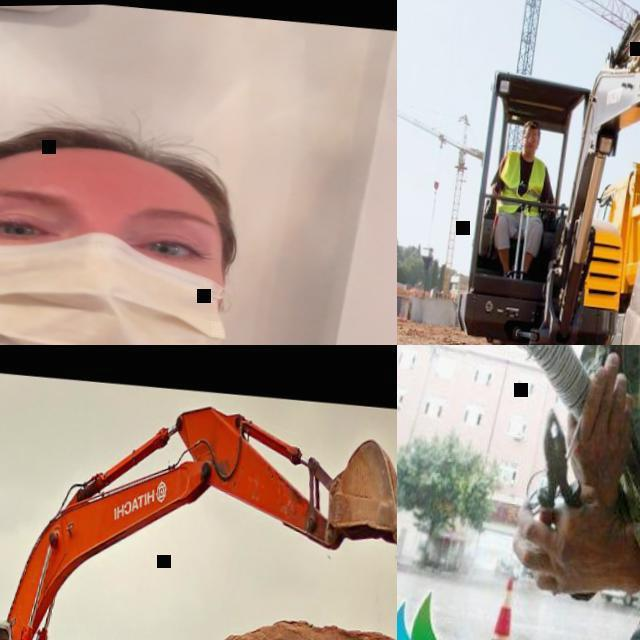machinery: (0, 365, 397, 640), (397, 0, 640, 345), (570, 57, 640, 345)
mask: (0, 227, 235, 345)
no_helmet: (0, 112, 241, 216), (525, 118, 541, 130)
no_mask: (522, 142, 536, 156)
no_vest: (556, 345, 640, 640), (496, 148, 548, 211)
person: (0, 89, 397, 345), (457, 345, 640, 640), (482, 113, 567, 278)
safety_cone: (483, 569, 524, 640)
vehicle: (599, 569, 640, 609)
